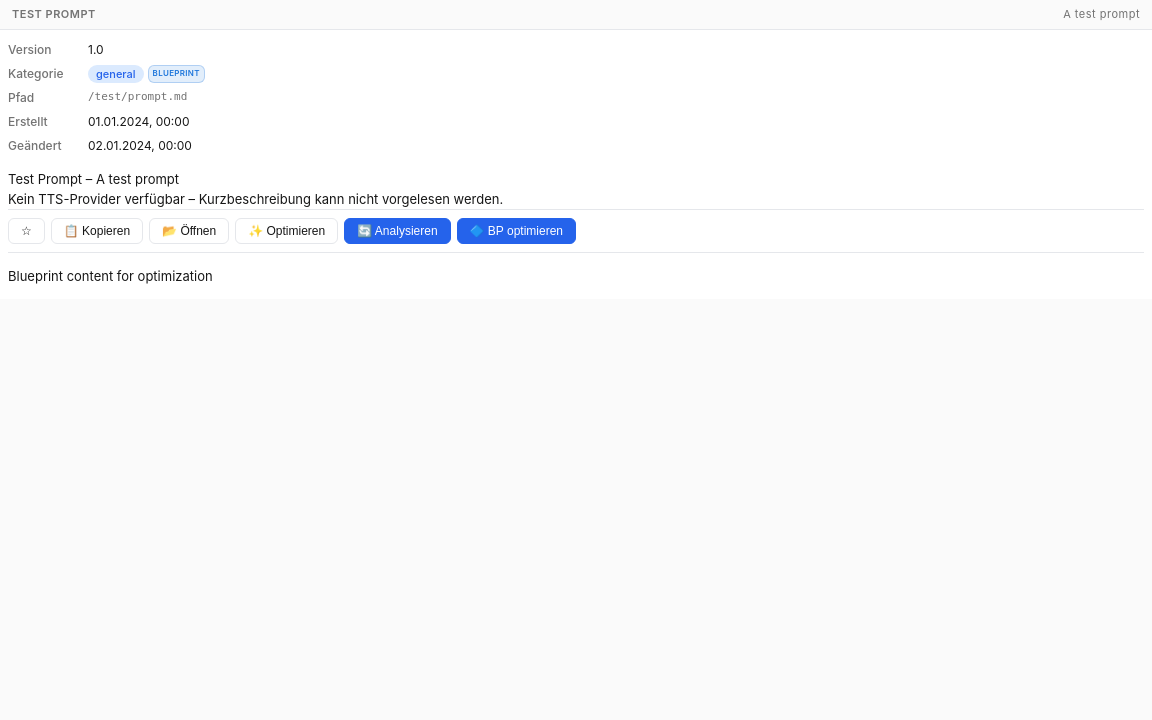
Test: DetailsPanel — BlueprintOptimizationPanel Modal › opens BlueprintOptimizationPanel modal when BP optimieren is clicked
The width and height of the screenshot is (1152, 720).
What coordinates should you click on to do the following:
click the button "🔷 BP optimieren"
I would click on:
 (516, 231)
Its box is [457,218,576,244].
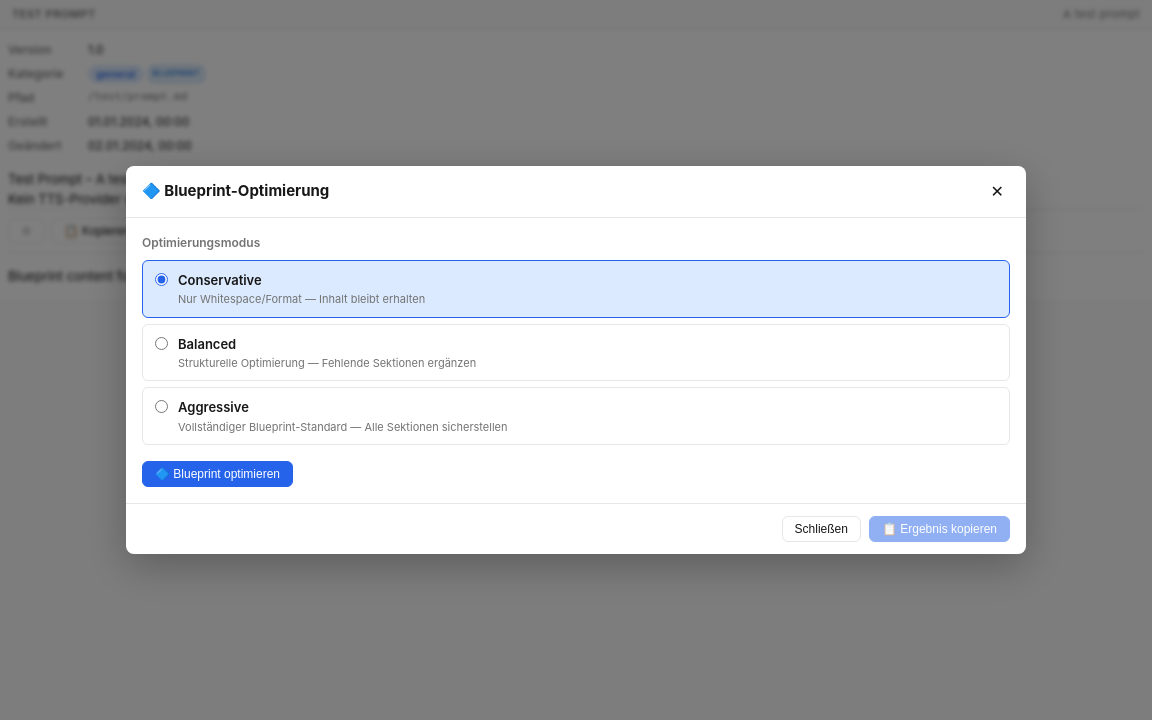
Expected: the heading "🔷 Blueprint-Optimierung" is shown, [142,180,329,202]
Expected: the text "Conservative" is shown, [178,272,262,288]
Expected: the text "Balanced" is shown, [178,336,236,352]
